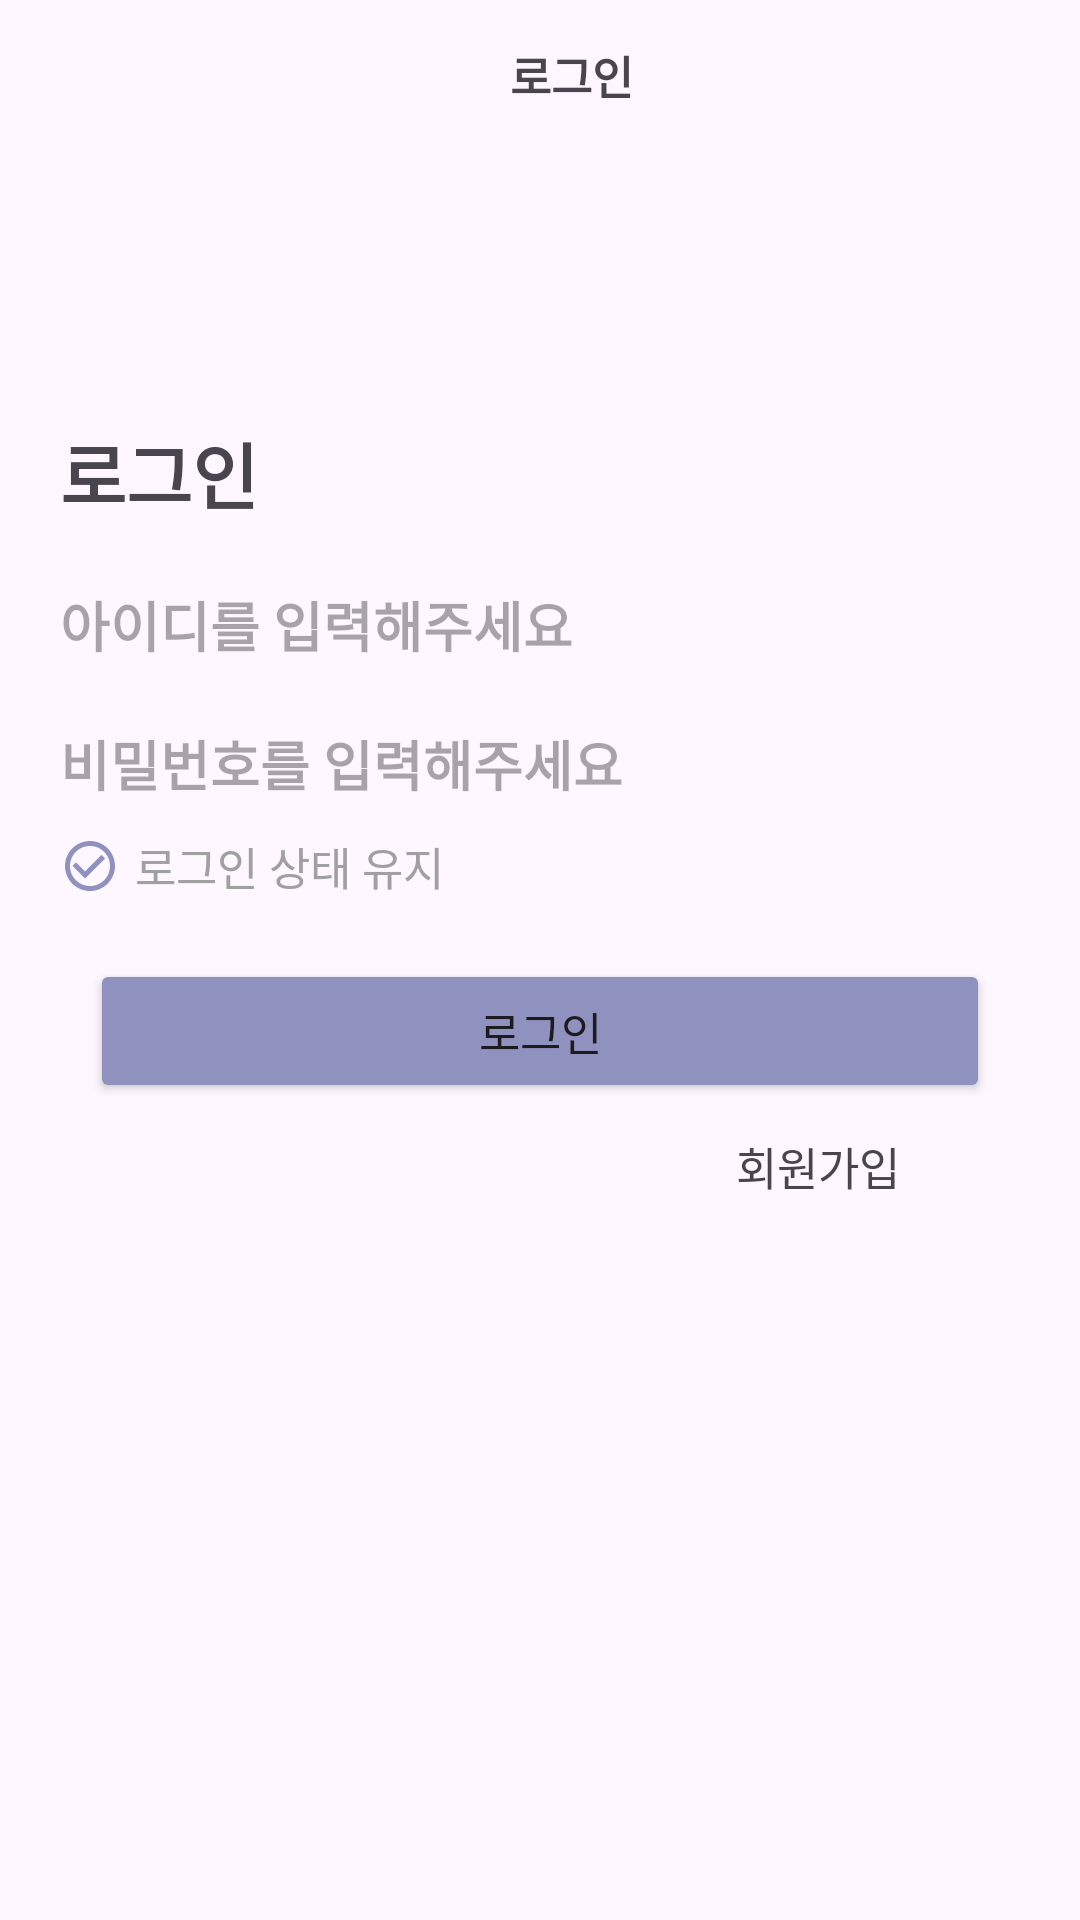

Locate icon controls on the screen. Image size 1080×1920, boxes as detection(x1, y1, x2, y2).
check empty: detection(65, 841, 115, 891)
